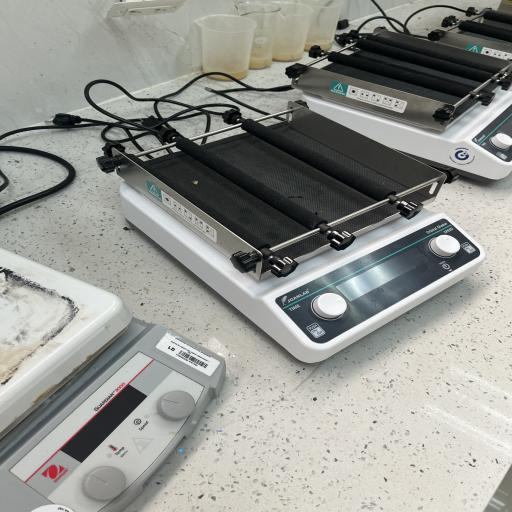Agitador_Orbital_DLAB: (72, 94, 509, 373)
